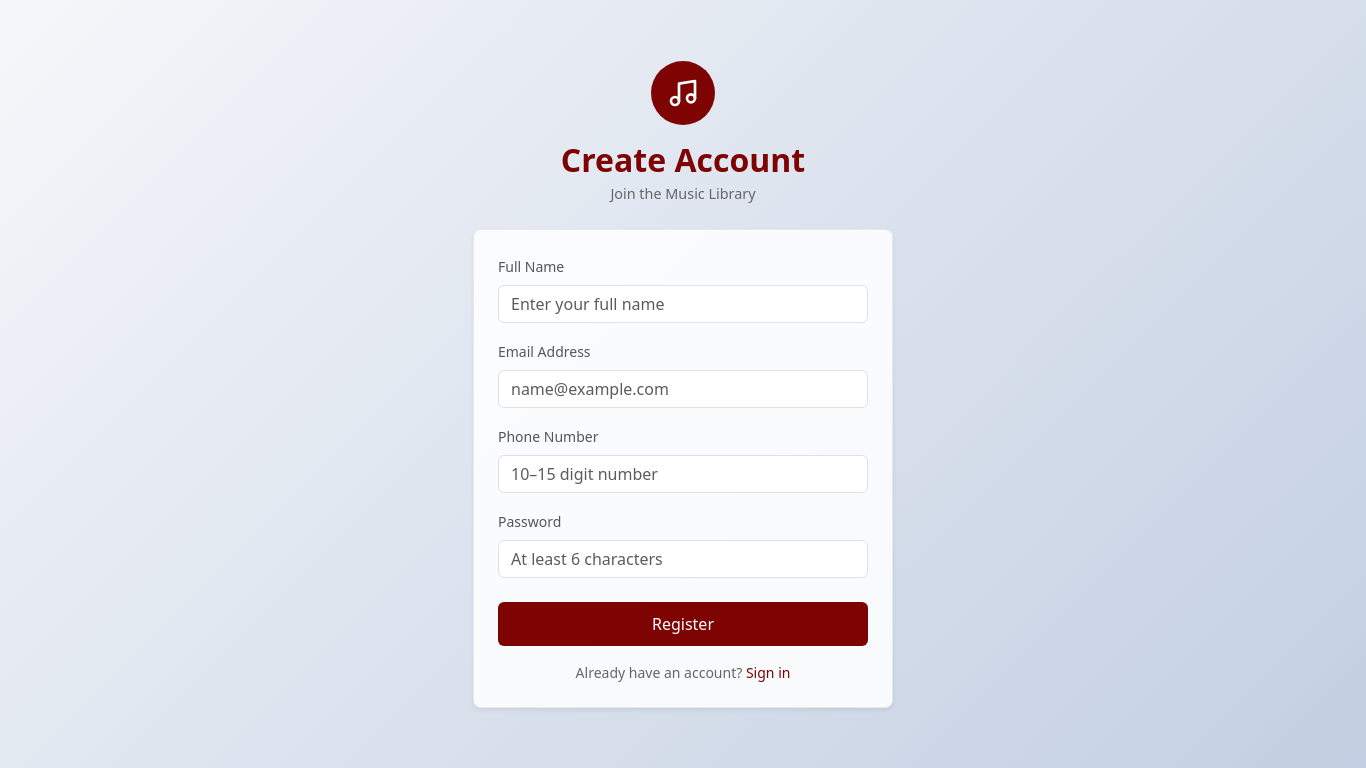
Test: Register component › validation errors on empty submit › shows all 4 required field errors
The width and height of the screenshot is (1366, 768).
Click the button "Register". click: (683, 624)
box: top-left (498, 602), bottom-right (868, 646)
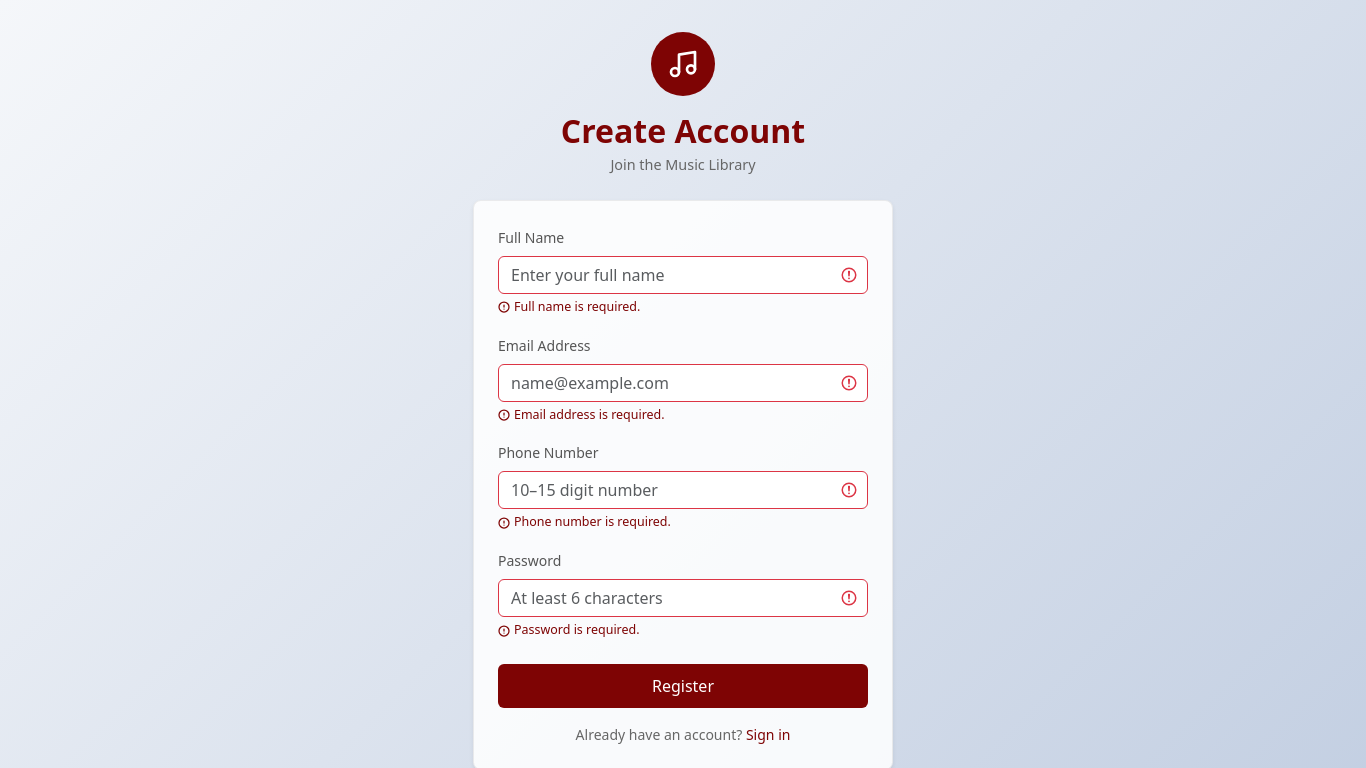
Expected: the text "Full name is required." is shown, top-left (498, 298), bottom-right (640, 315)
Expected: the text "Email address is required." is shown, top-left (498, 406), bottom-right (665, 423)
Expected: the text "Phone number is required." is shown, top-left (498, 513), bottom-right (671, 530)
